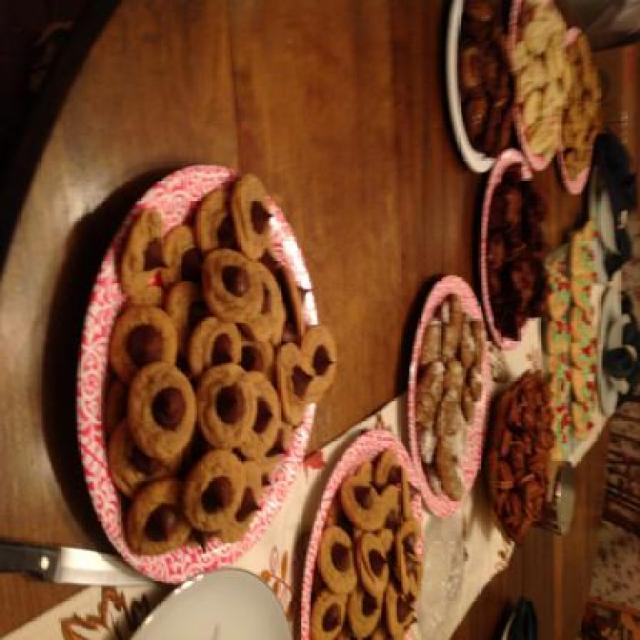Cookie: (110, 177, 338, 560), (308, 446, 424, 640), (415, 289, 487, 500), (552, 213, 600, 438), (498, 370, 558, 542), (490, 172, 548, 342), (516, 0, 572, 160), (459, 2, 515, 148), (559, 32, 601, 183)
